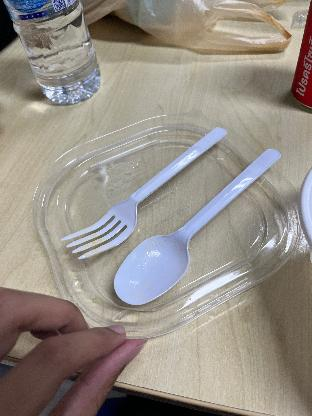Others: (110, 144, 286, 302), (66, 118, 230, 258)
